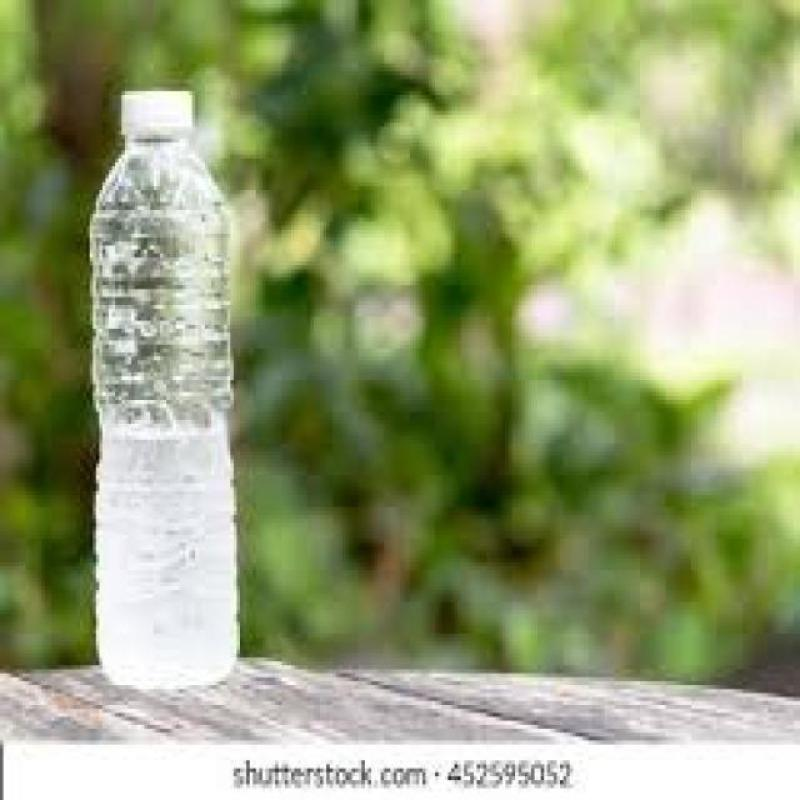botella: (86, 85, 244, 691)
